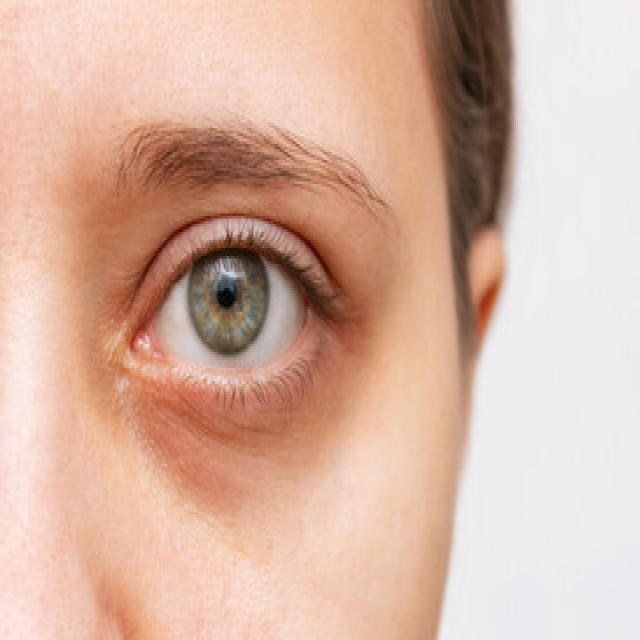Eyebags: (114, 350, 329, 502)
